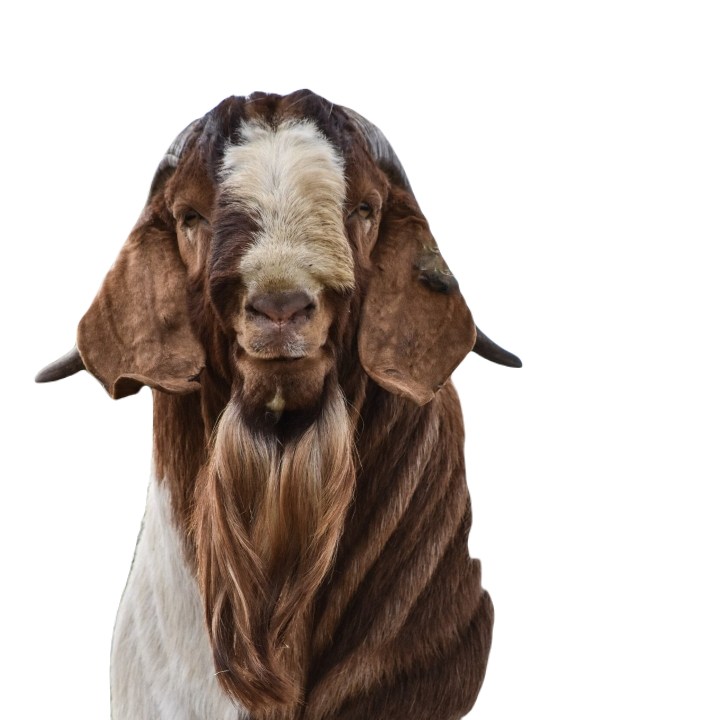Goat: (33, 88, 523, 719)
